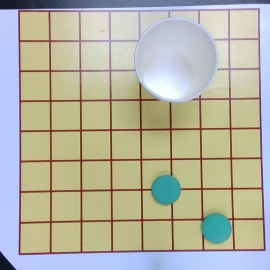blue: (151, 175, 183, 204)
cup: (133, 18, 218, 102)
green: (201, 214, 231, 243)
